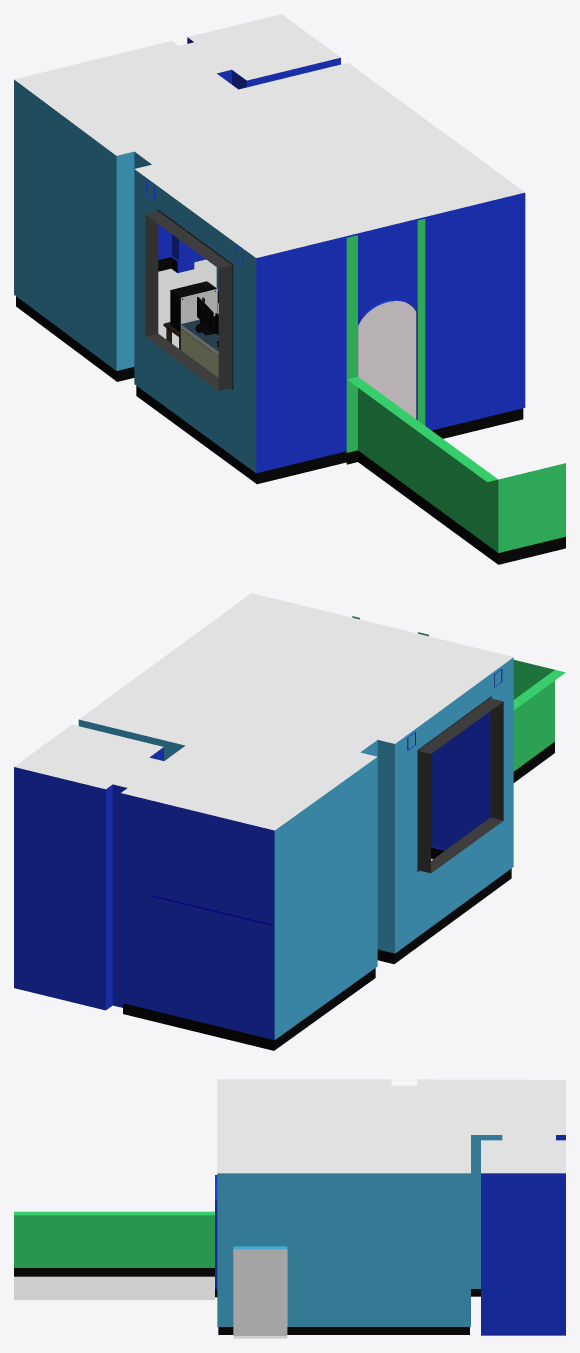
File: Room.fbx
3 renders of one model, top to bottom at view 1: azimuth 30°, elevation 25°; view 2: azimuth 150°, elevation 25°; view 3: azimuth 270°, elevation 25°, orthographic. The views are drawn at different scales.
Visible parts, largest first — view 1: Cyan, Roof, Gate, Back Cover, Glass; view 2: Cyan, Roof; view 3: Cyan, Roof, Gate.001.
Boxes of the visible parts, x1,y1,x2,y2 form: Cyan: [14, 37, 565, 564]; Roof: [14, 14, 524, 257]; Gate: [358, 301, 416, 418]; Back Cover: [180, 316, 218, 377]; Glass: [180, 289, 216, 332]; Cyan: [14, 616, 565, 1050]; Roof: [14, 593, 513, 830]; Cyan: [14, 1135, 565, 1338]; Roof: [217, 1079, 565, 1173]; Gate.001: [233, 1249, 286, 1335].
Bounding box in the file's own units: 389 × 291 × 892.
